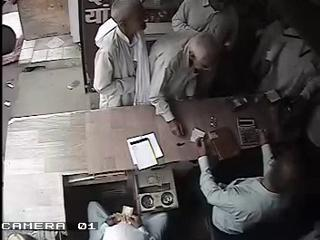Normal: (196, 131, 300, 240), (148, 28, 222, 138), (171, 1, 214, 33)
shoplifting: (92, 0, 150, 110)
